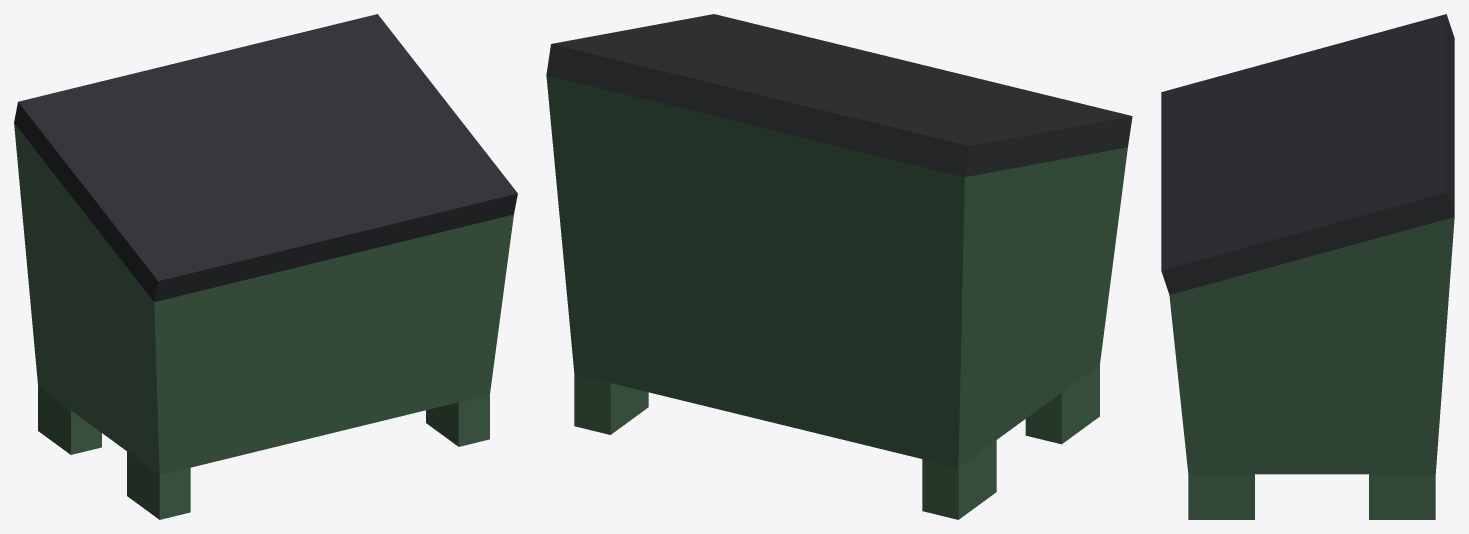
The model's file is SM_Prop_Dumpster_Closed_01.fbx.
3 views of the same model, side by side, from view 1: azimuth 30°, elevation 25°; view 2: azimuth 150°, elevation 25°; view 3: azimuth 270°, elevation 25° (orthographic). The views are drawn at different scales.
Visible parts, largest first — view 1: SM_Prop_Dumpster_Closed_01; view 2: SM_Prop_Dumpster_Closed_01; view 3: SM_Prop_Dumpster_Closed_01.
Boxes of the visible parts, x1,y1,x2,y2 form: SM_Prop_Dumpster_Closed_01: (14, 14, 517, 519); SM_Prop_Dumpster_Closed_01: (546, 14, 1132, 519); SM_Prop_Dumpster_Closed_01: (1161, 14, 1454, 519).
Bounding box in the file's own units: 60.12 × 52.52 × 41.73.
